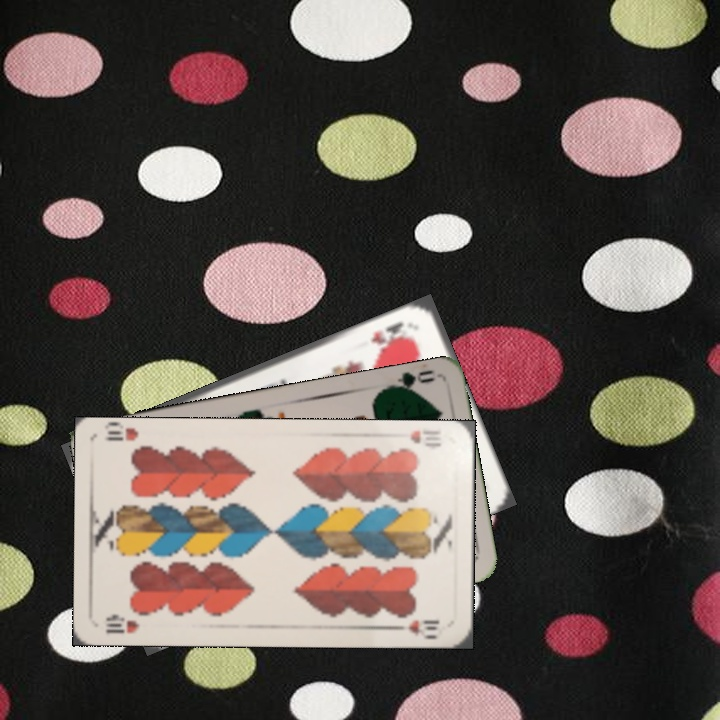GO: (380, 366, 437, 396)
H10: (102, 610, 142, 636), (407, 427, 444, 452)
HK: (366, 317, 416, 352)
